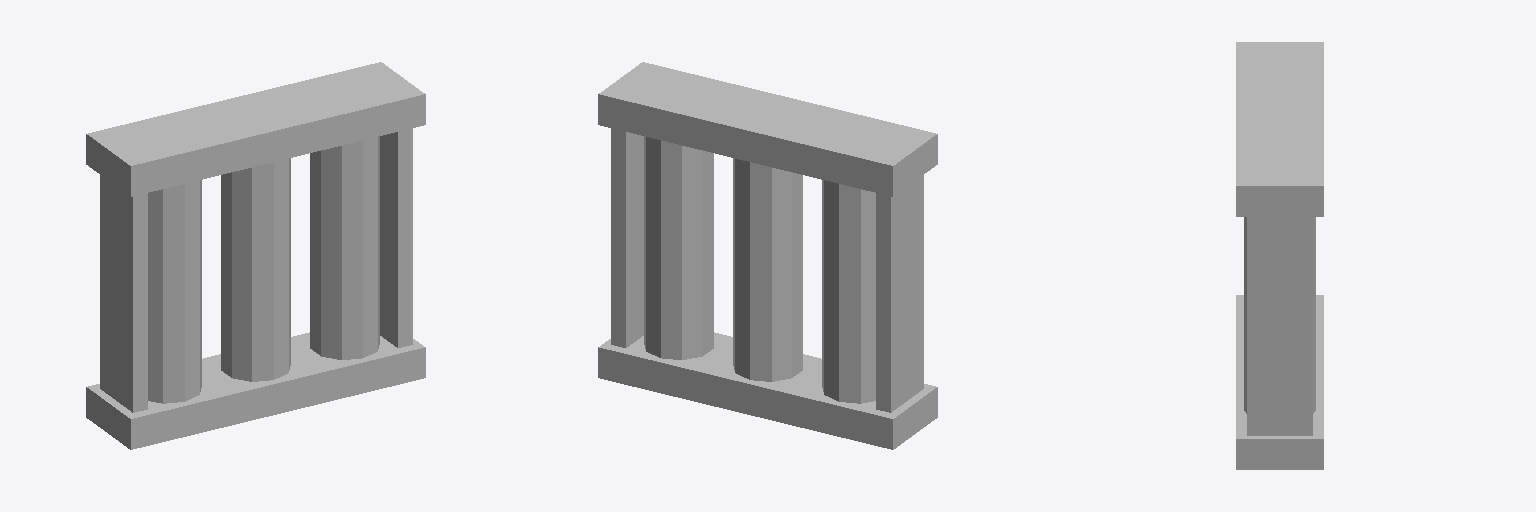
The model's file is bars.obj.
3 renders of one model, left to right at view 1: azimuth 30°, elevation 25°; view 2: azimuth 150°, elevation 25°; view 3: azimuth 270°, elevation 25°, orthographic.
Parts seen in each view (by area): view 1: Cube; view 2: Cube; view 3: Cube.
Part boxes in pixels (bbox=[...]): Cube: bbox=[86, 62, 425, 449]; Cube: bbox=[598, 62, 937, 449]; Cube: bbox=[1236, 42, 1323, 469].
Size of the model in its own units: 2 by 1.84 by 0.5196.